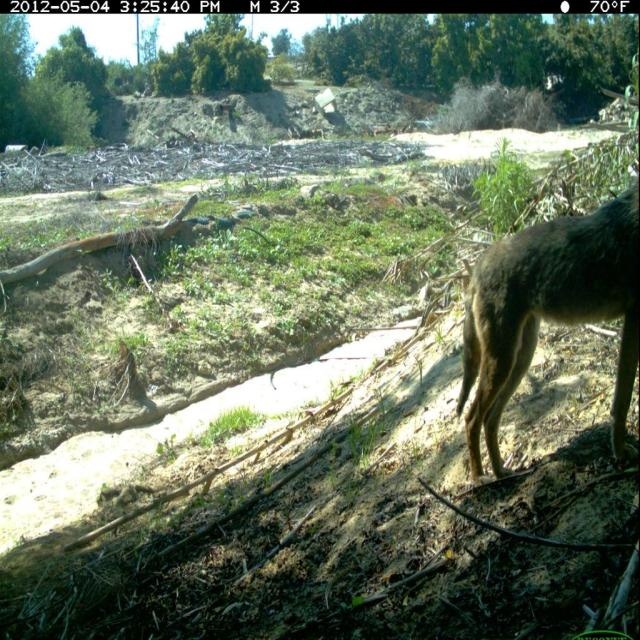coyote: (450, 171, 640, 496)
